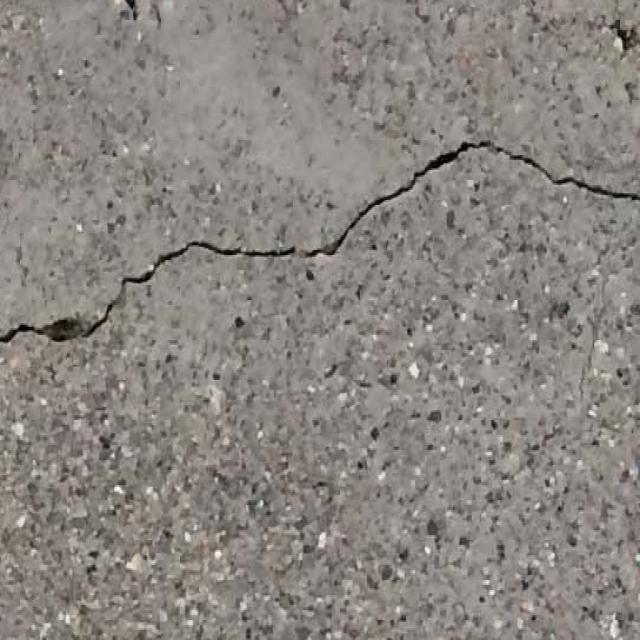Diagonal: (0, 132, 640, 352)
